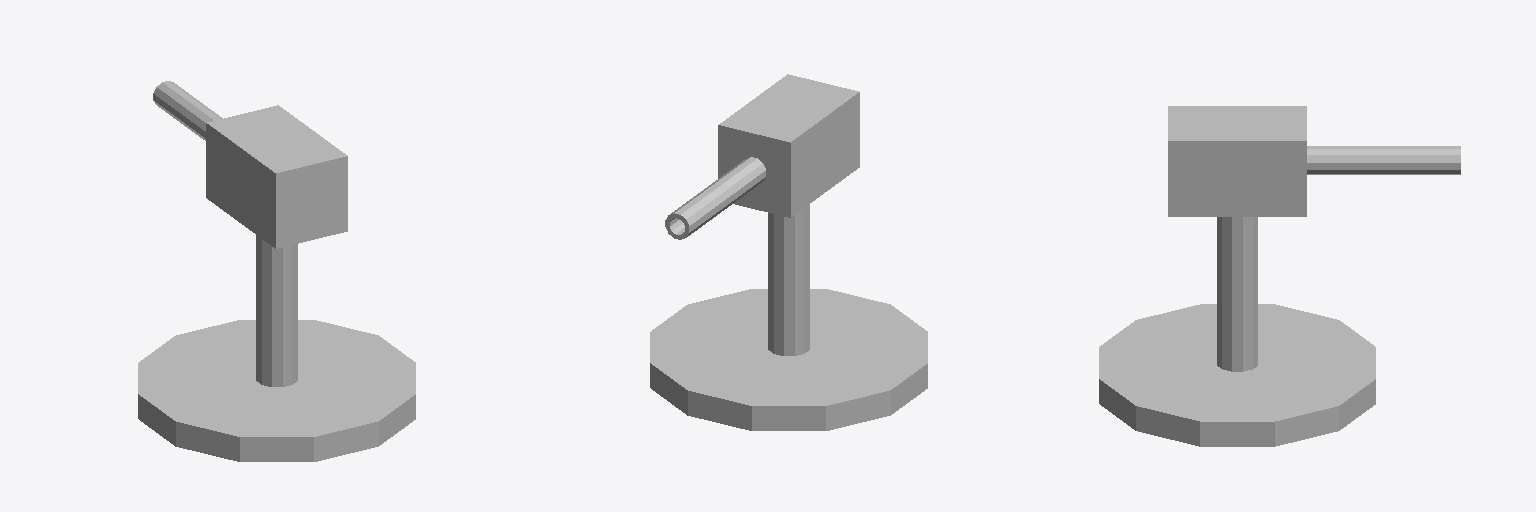
File: gun.obj
The picture shows the model from 3 angles: view 1: azimuth 30°, elevation 25°; view 2: azimuth 150°, elevation 25°; view 3: azimuth 270°, elevation 25°; orthographic projection.
Size of the model in its own units: 0.125 by 0.1312 by 0.1631.